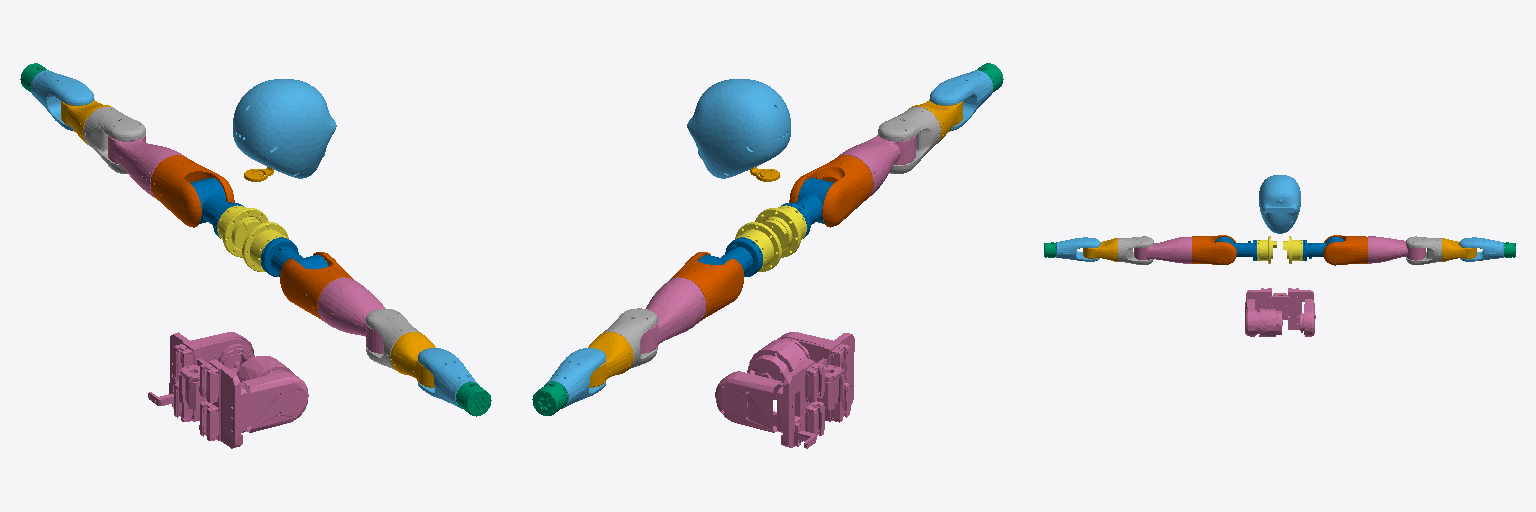
--- Facts derived from the render (not from the file) ---
3 views of the same robot in one strip: view 1: azimuth 30°, elevation 25°; view 2: azimuth 150°, elevation 25°; view 3: azimuth 270°, elevation 25° (orthographic).
Robot: Agibot G1 — 30 links, 29 joints (17 revolute, 2 continuous, 1 prismatic, 9 fixed); root link base_footprint; default pose: all joints at 0.
Visible links, largest first — view 1: body_link1, head_link2, left_link2, right_link3, right_link2, left_link4, left_link3, left_link6, right_link6, left_base_link, right_link5, right_link4 (+5 smaller); view 2: body_link1, head_link2, right_link2, left_link3, left_link2, right_link4, right_link3, right_link6, left_link6, right_base_link, left_link5, left_link4 (+5 smaller); view 3: body_link1, head_link2, left_link2, right_link2, left_link3, right_link3, left_link6, right_link6, left_link4, right_link4, left_link5, right_link5.
Boxes of the visible links, x1,y1,x2,y2 form: body_link1: (148, 332, 308, 448); head_link2: (233, 79, 336, 178); left_link2: (150, 155, 234, 227); right_link3: (318, 277, 385, 353); right_link2: (280, 252, 353, 320); left_link4: (83, 107, 145, 173); left_link3: (108, 135, 183, 197); left_link6: (31, 70, 93, 131); right_link6: (418, 348, 479, 408); left_base_link: (217, 205, 268, 257); right_link5: (390, 332, 435, 387); right_link4: (366, 309, 420, 369); body_link1: (715, 332, 854, 448); head_link2: (687, 79, 790, 178); right_link2: (789, 155, 873, 227); left_link3: (641, 277, 705, 353); left_link2: (670, 252, 743, 320); right_link4: (878, 107, 940, 173); right_link3: (838, 134, 915, 195); right_link6: (930, 70, 992, 131); left_link6: (544, 348, 605, 408); right_base_link: (755, 205, 806, 257); left_link5: (588, 332, 633, 387); left_link4: (600, 308, 657, 368); body_link1: (1245, 288, 1315, 336); head_link2: (1259, 175, 1300, 233); left_link2: (1323, 235, 1367, 265); right_link2: (1192, 235, 1236, 264); left_link3: (1368, 236, 1425, 263); right_link3: (1134, 237, 1191, 263); left_link6: (1459, 237, 1504, 261); right_link6: (1056, 237, 1100, 261); left_link4: (1406, 236, 1441, 264); right_link4: (1118, 236, 1153, 264); left_link5: (1442, 238, 1476, 261); right_link5: (1083, 238, 1117, 261).
Bounding box of the posed robot: 0.3221 × 1.79 × 0.7156 m (x, y, z).
Meshes: 13 distinct files referenced, 19 mesh visuals loaded (11 OBJ); not drawn: 2 (reference not matched to a file when rendering).

robot.urdf — Agibot G1:
<?xml version="1.0" ?>
<!-- =================================================================================== -->
<!-- |    This document was autogenerated by xacro from robot.xacro                    | -->
<!-- |    EDITING THIS FILE BY HAND IS NOT RECOMMENDED                                 | -->
<!-- =================================================================================== -->
<!-- =================================================================================== -->
<!-- |    Complete Robot Description for Agibot G1                                     | -->
<!-- |    This file includes the base robot structure and both arms                    | -->
<!-- =================================================================================== -->
<robot name="Agibot G1">
  <!-- Base links -->
  <link name="base_footprint"/>
  <joint name="base_footprint_joint" type="fixed">
    <origin xyz="0 0 0.211"/>
    <parent link="base_footprint"/>
    <child link="base_link"/>
  </joint>
  <link name="base_link">
    <inertial>
      <origin xyz="-0.00804486971267798 0 -0.120076754329413"/>
      <mass value="65.2085382238952"/>
      <inertia ixx="0.386955641760608" ixy="0.000135417314593726" ixz="0.00669301645720665" iyy="0.366800407621218" iyz="0.000105713634260505" izz="0.546852919828475"/>
    </inertial>
    <visual>
      <geometry>
        <mesh filename="package://agibot_g1_description/meshes/base/base.obj"/>
      </geometry>
    </visual>
    <collision>
      <origin xyz="-0.10913086 0.0 0.5971875"/>
      <geometry>
        <box size="0.29833984 0.3376392 1.0"/>
      </geometry>
    </collision>
    <collision>
      <origin xyz="0.01 0.0 -0.045"/>
      <geometry>
        <box size="0.5796094 0.449 0.27073438"/>
      </geometry>
    </collision>
    <collision>
      <origin xyz="0.22 0.14 -0.175245"/>
      <geometry>
        <sphere radius="0.038"/>
      </geometry>
    </collision>
    <collision>
      <origin xyz="0.22 -0.14 -0.175245"/>
      <geometry>
        <sphere radius="0.038"/>
      </geometry>
    </collision>
    <collision>
      <origin xyz="-0.18 0.14 -0.175245"/>
      <geometry>
        <sphere radius="0.038"/>
      </geometry>
    </collision>
    <collision>
      <origin xyz="-0.18 -0.14 -0.175245"/>
      <geometry>
        <sphere radius="0.038"/>
      </geometry>
    </collision>
  </link>
  <link name="left_wheel">
    <inertial>
      <origin xyz="-5.2736E-16 -0.033322 1.1102E-16"/>
      <mass value="5.8637"/>
      <inertia ixx="0.0051541" ixy="-3.3734E-17" ixz="1.0772E-17" iyy="0.0090798" iyz="5.0454E-18" izz="0.0051541"/>
    </inertial>
    <collision>
      <origin rpy="1.5708 0 0"/>
      <geometry>
        <cylinder length="0.034" radius="0.07948"/>
      </geometry>
    </collision>
  </link>
  <joint name="left_wheel_joint" type="continuous">
    <parent link="base_link"/>
    <child link="left_wheel"/>
    <origin xyz="0.016 0.1865 -0.133845"/>
    <axis xyz="0 1 0"/>
  </joint>
  <link name="scan"/>
  <joint name="scan_joint" type="fixed">
    <parent link="base_link"/>
    <child link="scan"/>
    <origin xyz="0.24 0 0.0145"/>
  </joint>
  <link name="imu"/>
  <joint name="imu_joint" type="fixed">
    <parent link="base_link"/>
    <child link="imu"/>
    <origin xyz="0.016 0 0.0145"/>
  </joint>
  <link name="right_wheel">
    <inertial>
      <origin xyz="-5.2736E-16 -0.033322 1.1102E-16"/>
      <mass value="5.8637"/>
      <inertia ixx="0.0051541" ixy="-3.3734E-17" ixz="1.0772E-17" iyy="0.0090798" iyz="5.0454E-18" izz="0.0051541"/>
    </inertial>
    <collision>
      <origin rpy="1.5708 0 0"/>
      <geometry>
        <cylinder length="0.034" radius="0.07948"/>
      </geometry>
    </collision>
  </link>
  <joint name="right_wheel_joint" type="continuous">
    <parent link="base_link"/>
    <child link="right_wheel"/>
    <origin xyz="0.016 -0.1865 -0.133845"/>
    <axis xyz="0 1 0"/>
  </joint>
  <link name="body_link1">
    <inertial>
      <origin xyz="0.0338351537064605 -0.00248044044451858 0.000838431095422365"/>
      <mass value="3.26275452360108"/>
      <inertia ixx="0.0128301877197417" ixy="8.24967996575627e-06" ixz="1.38254543337324e-05" iyy="0.006104110250297" iyz="-7.99392548994692e-06" izz="0.0111721084996867"/>
    </inertial>
    <visual>
      <geometry>
        <mesh filename="package://agibot_g1_description/meshes/base/body_link1.obj"/>
      </geometry>
    </visual>
    <collision>
      <origin xyz="0.10278320000000002 0.1 -0.013671875"/>
      <geometry>
        <box size="0.16064453 0.05555534399999999 0.1328125"/>
      </geometry>
    </collision>
    <collision>
      <origin xyz="0.10180664 -0.1 0.0"/>
      <geometry>
        <box size="0.16259765999999998 0.04375648500000001 0.16015625"/>
      </geometry>
    </collision>
  </link>
  <link name="body_link2">
    <inertial>
      <origin xyz="-0.000484180179482319 -0.193733558855111 -0.00124011422952511"/>
      <mass value="7.53199207979272"/>
      <inertia ixx="0.0788874639537613" ixy="5.46530938736686E-10" ixz="0.00286825206797472" iyy="0.0515041942141216" iyz="3.46275348004213E-07" izz="0.0448953474115628"/>
    </inertial>
    <visual>
      <geometry>
        <mesh filename="package://agibot_g1_description/meshes/base/body_link2.obj"/>
      </geometry>
      <origin rpy="0.0 0.0 -1.5707963267948966"/>
    </visual>
    <collision>
      <origin xyz="0.0068359375 -0.00034356117 0.0"/>
      <geometry>
        <cylinder length="0.08697056999999997" radius="0.09662318"/>
      </geometry>
    </collision>
    <collision>
      <origin xyz="0.0068359375 -0.00034356117 0.043485284999999985"/>
      <geometry>
        <sphere radius="0.09662318"/>
      </geometry>
    </collision>
    <collision>
      <origin xyz="0.0068359375 -0.00034356117 -0.043485284999999985"/>
      <geometry>
        <sphere radius="0.09662318"/>
      </geometry>
    </collision>
    <collision>
      <origin rpy="0.0 0.0 -1.5708" xyz="0.008 -0.248 0.0"/>
      <geometry>
        <box size="0.34570312 0.18107724 0.3125"/>
      </geometry>
    </collision>
  </link>
  <link name="head_link1">
    <inertial>
      <origin xyz="0.0446068140025754 0.00241753143645124 0.0528373754603559"/>
      <mass value="0.414342871921048"/>
      <inertia ixx="0.000158695728344024" ixy="-1.04590928109554e-06" ixz="-6.58530903139189e-06" iyy="0.000117742864399469" iyz="-2.65011299996072e-06" izz="0.000170947040827065"/>
    </inertial>
    <visual>
      <geometry>
        <mesh filename="package://agibot_g1_description/meshes/base/head_link1.obj"/>
      </geometry>
    </visual>
  </link>
  <link name="head_link2">
    <inertial>
      <origin xyz="0.0257009265816389 0.0316254080188787 -3.77390122592164e-05"/>
      <mass value="0.707063977171202"/>
      <inertia ixx="0.00205409595373573" ixy="0.000347730118005016" ixz="-2.13857752451204e-06" iyy="0.00200357281313449" iyz="5.16150600423908e-08" izz="0.00184999028444405"/>
    </inertial>
    <visual>
      <geometry>
        <mesh filename="package://agibot_g1_description/meshes/base/head_link2.obj"/>
      </geometry>
      <origin rpy="-3.141592653589793 0.0 0.0"/>
    </visual>
    <collision>
      <geometry>
        <sphere radius="0.11257068650657154"/>
      </geometry>
      <origin xyz="0.011500973396434619 -0.0252600143348118 0.0008537154007319386"/>
    </collision>
  </link>
  <!-- Base joints -->
  <joint name="body_joint1" type="prismatic">
    <parent link="base_link"/>
    <child link="body_link1"/>
    <origin xyz="0.0 0.0 0.4285"/>
    <axis xyz="0.0 0.0 1.0"/>
    <limit effort="1000" lower="0.0" upper="0.5" velocity="0.1"/>
  </joint>
  <joint name="body_joint2" type="revolute">
    <parent link="body_link1"/>
    <child link="body_link2"/>
    <origin rpy="-1.5707963267948966 0.0 0.0" xyz="0.131 0.0 0.0"/>
    <axis xyz="0.0 0.0 1.0"/>
    <limit effort="100.0" lower="0.0" upper="1.5707963267948966" velocity="0.5"/>
  </joint>
  <!-- Head joints -->
  <joint name="head_joint1" type="revolute">
    <parent link="body_link2"/>
    <child link="head_link1"/>
    <origin rpy="1.5707963267948966 0.0 0.0" xyz="0.0 -0.441 0.0"/>
    <axis xyz="0.0 0.0 1.0"/>
    <limit effort="50.0" lower="-1.5707963267948966" upper="1.5707963267948966" velocity="1.0"/>
  </joint>
  <joint name="head_joint2" type="revolute">
    <parent link="head_link1"/>
    <child link="head_link2"/>
    <origin rpy="-1.5707963267948966 0.0 0.0" xyz="0.050238 0.0 0.060065"/>
    <axis xyz="0.0 0.0 1.0"/>
    <limit effort="50.0" lower="-0.3490658503988659" upper="0.5235987755982988" velocity="1.0"/>
  </joint>
  <link name="head_camera"/>
  <joint name="head_camera_joint" type="fixed">
    <parent link="head_link2"/>
    <child link="head_camera"/>
    <origin rpy="1.5707963267948966 0 0" xyz="0.103 -0.0421 0.0"/>
  </joint>
  <!-- Arm base link -->
  <link name="left_base_link">
    <inertial>
      <origin xyz="0.00020641 -0.00057488 0.032296"/>
      <mass value="0.37595"/>
      <inertia ixx="0.00024335" ixy="1.2188e-06" ixz="2.4281e-06" iyy="0.00024039" iyz="-6.6932e-06" izz="0.00032195"/>
    </inertial>
    <visual>
      <geometry>
        <mesh filename="package://agibot_g1_description/meshes/arm/base_link.obj"/>
      </geometry>
    </visual>
  </link>
  <!-- Arm links -->
  <link name="left_link1">
    <inertial>
      <origin xyz="0.0012655 -0.00043778 -0.018388"/>
      <mass value="0.4936"/>
      <inertia ixx="0.00075396" ixy="-2.4144e-06" ixz="-1.8364e-06" iyy="0.00065755" iyz="1.2174e-06" izz="0.00031848"/>
    </inertial>
    <visual>
      <geometry>
        <mesh filename="package://agibot_g1_description/meshes/arm/link1.obj"/>
      </geometry>
    </visual>
    <collision>
      <geometry>
        <cylinder length="0.16642063483595848" radius="0.05579268228774888"/>
      </geometry>
      <origin rpy="0.0 0.0 -1.2566370614359172" xyz="0.0026814433577366636 0.0006133775157398935 -0.04071124829351902"/>
    </collision>
  </link>
  <link name="left_link2">
    <inertial>
      <origin xyz="-0.00044207 -0.082298 0.00019486"/>
      <mass value="0.46245"/>
      <inertia ixx="0.00065719" ixy="3.7112e-07" ixz="-3.6668e-06" iyy="0.00043459" iyz="-2.517e-05" izz="0.00072571"/>
    </inertial>
    <visual>
      <geometry>
        <mesh filename="package://agibot_g1_description/meshes/arm/link2.obj"/>
      </geometry>
    </visual>
    <collision>
      <origin rpy="1.5707963267948966 0 0" xyz="0.0 -0.044062052 0.0009765625"/>
      <geometry>
        <cylinder length="0.18085919" radius="0.06302423"/>
      </geometry>
    </collision>
  </link>
  <link name="left_link3">
    <inertial>
      <origin xyz="0.0010558 4.4416e-05 -0.056128"/>
      <mass value="0.50026"/>
      <inertia ixx="0.0013016" ixy="3.1401e-06" ixz="1.4255e-05" iyy="0.001427" iyz="2.4361e-05" izz="0.00033587"/>
    </inertial>
    <visual>
      <geometry>
        <mesh filename="package://agibot_g1_description/meshes/arm/link3.obj"/>
      </geometry>
    </visual>
    <collision>
      <origin xyz="0.0006559932284637068 -2.2628975236450855e-05 -0.07219303026795387"/>
      <geometry>
        <cylinder length="0.22061403840780258" radius="0.05216156143823925"/>
      </geometry>
    </collision>
  </link>
  <link name="left_link4">
    <inertial>
      <origin xyz="2.4212e-05 -0.06248 0.002536"/>
      <mass value="0.27473"/>
      <inertia ixx="0.00029283" ixy="4.5586e-07" ixz="5.8042e-08" iyy="0.00018852" iyz="-1.116e-06" izz="0.00031238"/>
    </inertial>
    <visual>
      <geometry>
        <mesh filename="package://agibot_g1_description/meshes/arm/link4.obj"/>
      </geometry>
    </visual>
    <collision>
      <origin rpy="1.5707963267948966 0 0" xyz="0.0 -0.03817895 -0.0043945312"/>
      <geometry>
        <cylinder length="0.154955404" radius="0.057891708"/>
      </geometry>
    </collision>
  </link>
  <link name="left_link5">
    <inertial>
      <origin xyz="2.6223e-06 -0.00023041 -0.024141"/>
      <mass value="0.25139"/>
      <inertia ixx="0.00023516" ixy="-6.5868e-09" ixz="-1.9428e-08" iyy="0.00028807" iyz="-1.2108e-05" izz="0.00013068"/>
    </inertial>
    <visual>
      <geometry>
        <mesh filename="package://agibot_g1_description/meshes/arm/link5.obj"/>
      </geometry>
    </visual>
    <collision>
      <origin xyz="-0.00022255510134868567 -4.227476414728204e-05 -0.03344946540892124"/>
      <geometry>
        <cylinder length="0.13423806056380272" radius="0.04562028545392604"/>
      </geometry>
    </collision>
  </link>
  <link name="left_link6">
    <inertial>
      <origin xyz="5.0382e-06 -0.086696 0.002556"/>
      <mass value="0.26634"/>
      <inertia ixx="0.00031434" ixy="-1.2113e-09" ixz="1.0011e-07" iyy="0.00014464" iyz="-2.033e-05" izz="0.00032449"/>
    </inertial>
    <visual>
      <geometry>
        <mesh filename="package://agibot_g1_description/meshes/arm/link6.obj"/>
      </geometry>
    </visual>
    <collision>
      <origin rpy="0.0 -1.4835107730827122 -1.56897465223053" xyz="-1.7782549414354032e-05 -0.05507596972928094 -0.0017447156928267265"/>
      <geometry>
        <cylinder length="0.18272488500982115" radius="0.04857149291994264"/>
      </geometry>
    </collision>
  </link>
  <link name="left_end_link">
    <inertial>
      <origin xyz="-7.5134e-05 -0.00024521 -0.016705"/>
      <mass value="0.06158"/>
      <inertia ixx="1.8407e-05" ixy="3.4818e-08" ixz="-3.2902e-09" iyy="1.818e-05" iyz="1.1326e-07" izz="2.8547e-05"/>
    </inertial>
    <visual>
      <geometry>
        <mesh filename="package://agibot_g1_description/meshes/arm/link7.obj"/>
      </geometry>
    </visual>
    <collision>
      <origin rpy="3.141592653589793 -1.2246467991473532e-16 3.141592653589793" xyz="-4.552953707661759e-05 -0.002300474691790042 -0.02249999972991645"/>
      <geometry>
        <cylinder length="0.045999998692423105" radius="0.030799950382754494"/>
      </geometry>
    </collision>
  </link>
  <!-- Arm joints -->
  <joint name="left_joint1" type="revolute">
    <parent link="left_base_link"/>
    <child link="left_link1"/>
    <origin xyz="0.0 0.0 0.1859"/>
    <axis xyz="0.0 0.0 1.0"/>
    <limit effort="60.0" lower="-3.14" upper="3.14" velocity="3.14"/>
  </joint>
  <joint name="left_joint2" type="revolute">
    <parent link="left_link1"/>
    <child link="left_link2"/>
    <origin rpy="-1.5707963267948966 0.0 1.5707963267948966" xyz="0.0 0.0 0.0"/>
    <axis xyz="0.0 0.0 1.0"/>
    <limit effort="60.0" lower="-2.09" upper="1.48" velocity="3.14"/>
  </joint>
  <joint name="left_joint3" type="revolute">
    <parent link="left_link2"/>
    <child link="left_link3"/>
    <origin rpy="-1.5707963267948966 1.5707963267948966 3.141592653589793" xyz="0.0 -0.305 0.0"/>
    <axis xyz="0.0 0.0 1.0"/>
    <limit effort="60.0" lower="-3.10" upper="3.10" velocity="3.14"/>
  </joint>
  <joint name="left_joint4" type="revolute">
    <parent link="left_link3"/>
    <child link="left_link4"/>
    <origin rpy="-1.5707963267948966 0.0 3.141592653589793" xyz="0.0 0.0 0.0"/>
    <axis xyz="0.0 0.0 1.0"/>
    <limit effort="60.0" lower="-1.48" upper="1.48" velocity="3.14"/>
  </joint>
  <joint name="left_joint5" type="revolute">
    <parent link="left_link4"/>
    <child link="left_link5"/>
    <origin rpy="-1.5707963267948966 0.0 -3.141592653589793" xyz="0.0 -0.1975 0.0"/>
    <axis xyz="0.0 0.0 1.0"/>
    <limit effort="30.0" lower="-3.10" upper="3.10" velocity="3.14"/>
  </joint>
  <joint name="left_joint6" type="revolute">
    <parent link="left_link5"/>
    <child link="left_link6"/>
    <origin rpy="-1.5707963267948966 0.0 0.0" xyz="0.0 0.0 0.0"/>
    <axis xyz="0.0 0.0 1.0"/>
    <limit effort="30.0" lower="-1.74" upper="1.74" velocity="3.14"/>
  </joint>
  <joint name="left_joint7" type="revolute">
    <origin rpy="1.5707963267948966 0.0 0.0" xyz="0.0 -0.1805 0.0"/>
    <parent link="left_link6"/>
    <child link="left_end_link"/>
    <axis xyz="0.0 0.0 1.0"/>
    <limit effort="30.0" lower="-3.10" upper="3.10" velocity="3.14"/>
  </joint>
  <!-- Arm base link -->
  <link name="right_base_link">
    <inertial>
      <origin xyz="-0.00020641 0.00057488 0.032296"/>
      <mass value="0.37595"/>
      <inertia ixx="0.00024335" ixy="1.2188e-06" ixz="-2.4281e-06" iyy="0.00024039" iyz="6.6932e-06" izz="0.00032195"/>
    </inertial>
    <visual>
      <geometry>
        <mesh filename="package://agibot_g1_description/meshes/arm/base_link.obj"/>
      </geometry>
    </visual>
  </link>
  <!-- Arm links -->
  <link name="right_link1">
    <inertial>
      <origin xyz="-0.0012655 -0.00043778 -0.018388"/>
      <mass value="0.4936"/>
      <inertia ixx="0.00075396" ixy="2.4144e-06" ixz="1.8364e-06" iyy="0.00065755" iyz="1.2174e-06" izz="0.00031848"/>
    </inertial>
    <visual>
      <geometry>
        <mesh filename="package://agibot_g1_description/meshes/arm/link1.obj"/>
      </geometry>
    </visual>
    <collision>
      <geometry>
        <cylinder length="0.16642063483595848" radius="0.05579268228774888"/>
      </geometry>
      <origin rpy="0.0 0.0 1.2566370614359172" xyz="-0.0026814433577366636 0.0006133775157398935 -0.04071124829351902"/>
    </collision>
  </link>
  <link name="right_link2">
    <inertial>
      <origin xyz="0.00044207 -0.082298 0.00019486"/>
      <mass value="0.46245"/>
      <inertia ixx="0.00065719" ixy="3.7112e-07" ixz="-3.6668e-06" iyy="0.00043459" iyz="-2.517e-05" izz="0.00072571"/>
    </inertial>
    <visual>
      <geometry>
        <mesh filename="package://agibot_g1_description/meshes/arm/link2.obj"/>
      </geometry>
    </visual>
    <collision>
      <origin rpy="1.5707963267948966 0 0" xyz="0.0 -0.044062052 0.0009765625"/>
      <geometry>
        <cylinder length="0.18085919" radius="0.06302423"/>
      </geometry>
    </collision>
  </link>
  <link name="right_link3">
    <inertial>
      <origin xyz="-0.0010558 4.4416e-05 -0.056128"/>
      <mass value="0.50026"/>
      <inertia ixx="0.0013016" ixy="3.1401e-06" ixz="1.4255e-05" iyy="0.001427" iyz="2.4361e-05" izz="0.00033587"/>
    </inertial>
    <visual>
      <geometry>
        <mesh filename="package://agibot_g1_description/meshes/arm/link3.obj"/>
      </geometry>
    </visual>
    <collision>
      <origin xyz="-0.0006559932284637068 -2.2628975236450855e-05 -0.07219303026795387"/>
      <geometry>
        <cylinder length="0.22061403840780258" radius="0.05216156143823925"/>
      </geometry>
    </collision>
  </link>
  <link name="right_link4">
    <inertial>
      <origin xyz="2.4212e-05 -0.06248 0.002536"/>
      <mass value="0.27473"/>
      <inertia ixx="0.00029283" ixy="4.5586e-07" ixz="5.8042e-08" iyy="0.00018852" iyz="-1.116e-06" izz="0.00031238"/>
    </inertial>
    <visual>
      <geometry>
        <mesh filename="package://agibot_g1_description/meshes/arm/link4.obj"/>
      </geometry>
    </visual>
    <collision>
      <origin rpy="1.5707963267948966 0 0" xyz="0.0 -0.03817895 -0.0043945312"/>
      <geometry>
        <cylinder length="0.154955404" radius="0.057891708"/>
      </geometry>
    </collision>
  </link>
  <link name="right_link5">
    <inertial>
      <origin xyz="2.6223e-06 -0.00023041 -0.024141"/>
      <mass value="0.25139"/>
      <inertia ixx="0.00023516" ixy="-6.5868e-09" ixz="-1.9428e-08" iyy="0.00028807" iyz="-1.2108e-05" izz="0.00013068"/>
    </inertial>
    <visual>
      <geometry>
        <mesh filename="package://agibot_g1_description/meshes/arm/link5.obj"/>
      </geometry>
    </visual>
    <collision>
      <origin xyz="0.00022255510134868567 -4.227476414728204e-05 -0.03344946540892124"/>
      <geometry>
        <cylinder length="0.13423806056380272" radius="0.04562028545392604"/>
      </geometry>
    </collision>
  </link>
  <link name="right_link6">
    <inertial>
      <origin xyz="5.0382e-06 -0.086696 0.002556"/>
      <mass value="0.26634"/>
      <inertia ixx="0.00031434" ixy="-1.2113e-09" ixz="1.0011e-07" iyy="0.00014464" iyz="-2.033e-05" izz="0.00032449"/>
    </inertial>
    <visual>
      <geometry>
        <mesh filename="package://agibot_g1_description/meshes/arm/link6.obj"/>
      </geometry>
    </visual>
    <collision>
      <origin rpy="0.0 -1.4835107730827122 -1.56897465223053" xyz="1.7782549414354032e-05 -0.05507596972928094 -0.0017447156928267265"/>
      <geometry>
        <cylinder length="0.18272488500982115" radius="0.04857149291994264"/>
      </geometry>
    </collision>
  </link>
  <link name="right_end_link">
    <inertial>
      <origin xyz="-7.5134e-05 -0.00024521 -0.016705"/>
      <mass value="0.06158"/>
      <inertia ixx="1.8407e-05" ixy="3.4818e-08" ixz="-3.2902e-09" iyy="1.818e-05" iyz="1.1326e-07" izz="2.8547e-05"/>
    </inertial>
    <visual>
      <geometry>
        <mesh filename="package://agibot_g1_description/meshes/arm/link7.obj"/>
      </geometry>
    </visual>
    <collision>
      <origin rpy="3.141592653589793 -1.2246467991473532e-16 3.141592653589793" xyz="-4.552953707661759e-05 -0.002300474691790042 -0.02249999972991645"/>
      <geometry>
        <cylinder length="0.045999998692423105" radius="0.030799950382754494"/>
      </geometry>
    </collision>
  </link>
  <!-- Arm joints -->
  <joint name="right_joint1" type="revolute">
    <parent link="right_base_link"/>
    <child link="right_link1"/>
    <origin xyz="0.0 0.0 0.1859"/>
    <axis xyz="0.0 0.0 -1.0"/>
    <limit effort="60.0" lower="-3.14" upper="3.14" velocity="3.14"/>
  </joint>
  <joint name="right_joint2" type="revolute">
    <parent link="right_link1"/>
    <child link="right_link2"/>
    <origin rpy="-1.5707963267948966 0.0 -1.5707963267948966" xyz="0.0 0.0 0.0"/>
    <axis xyz="0.0 0.0 -1.0"/>
    <limit effort="60.0" lower="-2.09" upper="1.48" velocity="3.14"/>
  </joint>
  <joint name="right_joint3" type="revolute">
    <parent link="right_link2"/>
    <child link="right_link3"/>
    <origin rpy="-1.5707963267948966 -1.5707963267948966 3.141592653589793" xyz="0.0 -0.305 0.0"/>
    <axis xyz="0.0 0.0 -1.0"/>
    <limit effort="60.0" lower="-3.10" upper="3.10" velocity="3.14"/>
  </joint>
  <joint name="right_joint4" type="revolute">
    <parent link="right_link3"/>
    <child link="right_link4"/>
    <origin rpy="-1.5707963267948966 0.0 3.141592653589793" xyz="0.0 0.0 0.0"/>
    <axis xyz="0.0 0.0 -1.0"/>
    <limit effort="60.0" lower="-1.48" upper="1.48" velocity="3.14"/>
  </joint>
  <joint name="right_joint5" type="revolute">
    <parent link="right_link4"/>
    <child link="right_link5"/>
    <origin rpy="-1.5707963267948966 0.0 3.141592653589793" xyz="0.0 -0.1975 0.0"/>
    <axis xyz="0.0 0.0 -1.0"/>
    <limit effort="30.0" lower="-3.10" upper="3.10" velocity="3.14"/>
  </joint>
  <joint name="right_joint6" type="revolute">
    <parent link="right_link5"/>
    <child link="right_link6"/>
    <origin rpy="-1.5707963267948966 0.0 0.0" xyz="0.0 0.0 0.0"/>
    <axis xyz="0.0 0.0 -1.0"/>
    <limit effort="30.0" lower="-1.74" upper="1.74" velocity="3.14"/>
  </joint>
  <joint name="right_joint7" type="revolute">
    <origin rpy="1.5707963267948966 0.0 0.0" xyz="0.0 -0.1805 0.0"/>
    <parent link="right_link6"/>
    <child link="right_end_link"/>
    <axis xyz="0.0 0.0 -1.0"/>
    <limit effort="30.0" lower="-3.10" upper="3.10" velocity="3.14"/>
  </joint>
  <!-- Arm base links -->
  <link name="arm_base"/>
  <!-- Arm base joints -->
  <joint name="arm_base_joint" type="fixed">
    <parent link="body_link2"/>
    <child link="arm_base"/>
    <origin rpy="1.5707963267948966 0.0 0.0" xyz="0.0 -0.305 0.0"/>
  </joint>
  <joint name="left_base_joint" type="fixed">
    <parent link="arm_base"/>
    <child link="left_base_link"/>
    <origin rpy="-1.5707963267948966 0.0 0.0" xyz="0.0 0.025 0.0"/>
  </joint>
  <joint name="right_base_joint" type="fixed">
    <parent link="arm_base"/>
    <child link="right_base_link"/>
    <origin rpy="-1.5707963267948966 0.0 3.141592653589793" xyz="0.0 -0.025 0.0"/>
  </joint>

  <link name="right_eef"/>
  <joint name="right_eef_joint" type="fixed">
    <origin xyz="0.0 0.0 0.15"/>
    <parent link="right_end_link"/>
    <child link="right_eef"/>
  </joint>

  <link name="left_eef"/>
  <joint name="left_eef_joint" type="fixed">
    <origin xyz="0.0 0.0 0.15"/>
    <parent link="left_end_link"/>
    <child link="left_eef"/>
  </joint>
</robot>
